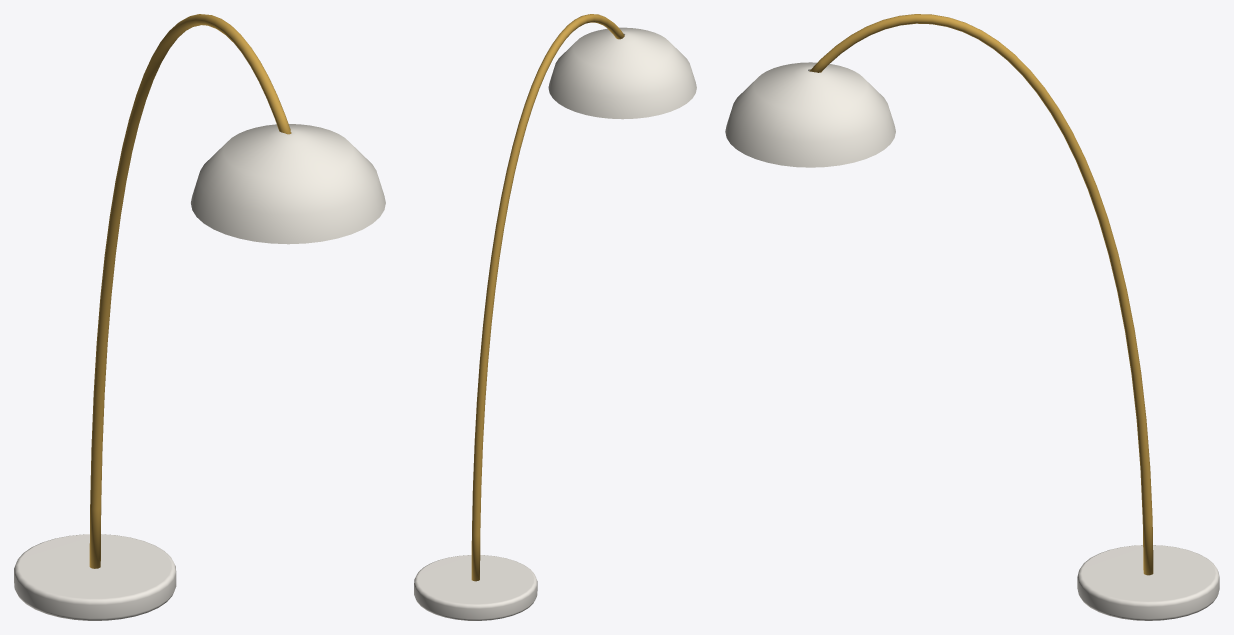
The model's file is arc_lamp.glb.
The picture shows the model from 3 angles, left to right: view 1: azimuth 30°, elevation 25°; view 2: azimuth 150°, elevation 25°; view 3: azimuth 270°, elevation 25°; orthographic projection. The views are drawn at different scales.
Parts seen in each view (by area): view 1: model; view 2: model; view 3: model.
Part boxes in pixels (<box>): model: <box>14,14,385,620</box>; model: <box>414,14,696,620</box>; model: <box>725,14,1219,620</box>.
Bounding box in the file's own units: 0.48 × 1.79 × 1.39.
4 materials, 4 textured.
